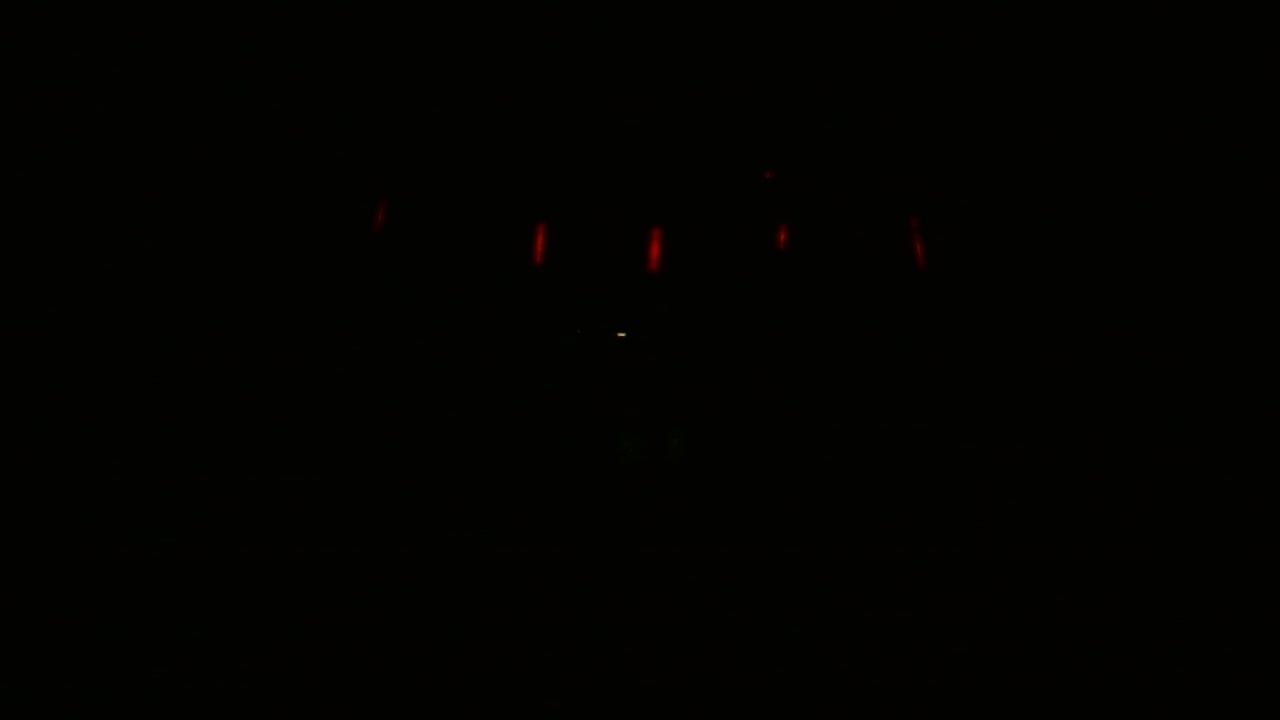pair1: (535, 219, 661, 270)
